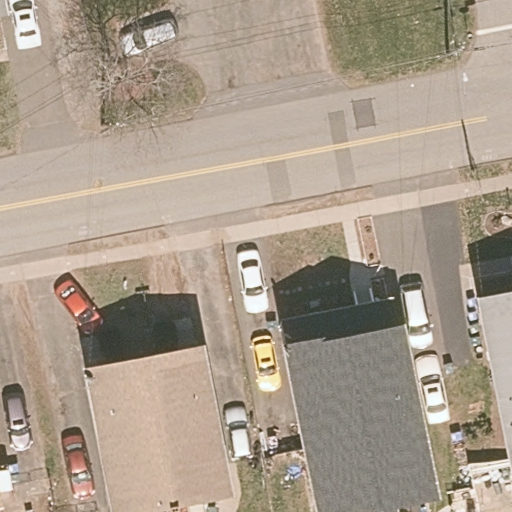DT: (444, 31, 486, 57)
